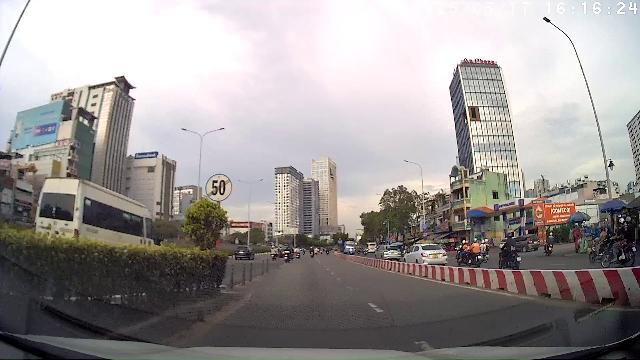134-het-han-che-toc-do-toi-da: (205, 173, 233, 201)
